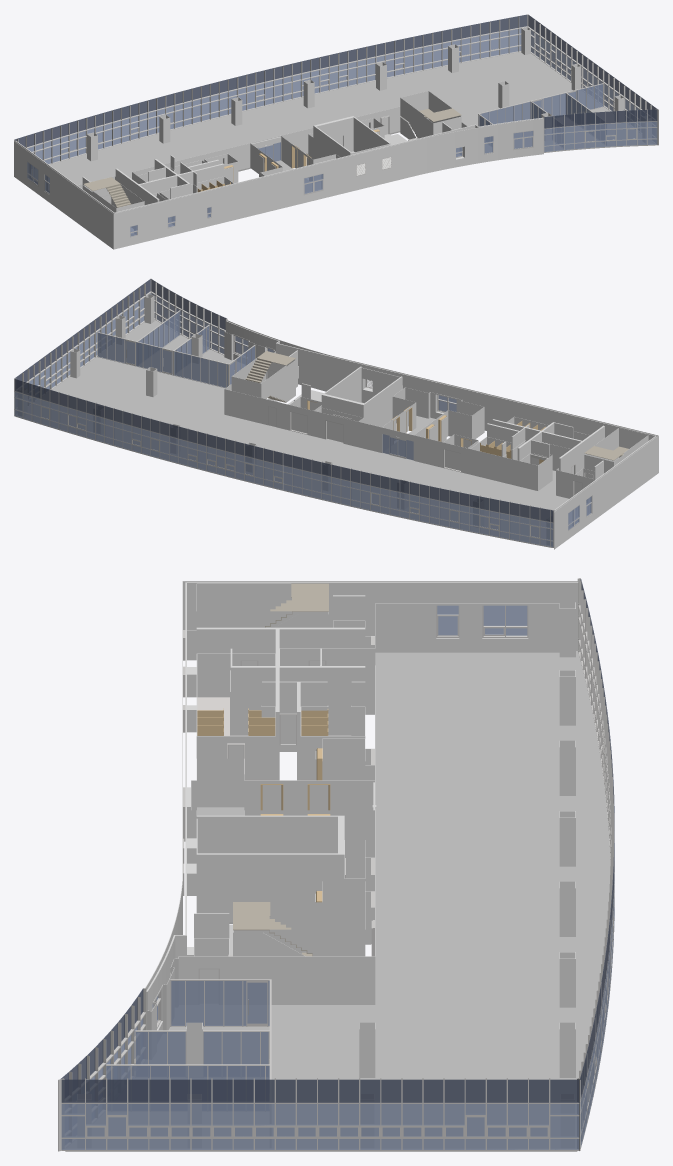
The picture shows the model from 3 angles, top to bottom: view 1: azimuth 30°, elevation 25°; view 2: azimuth 150°, elevation 25°; view 3: azimuth 270°, elevation 25°; orthographic projection. The views are drawn at different scales.
Visible parts, largest first — view 1: A8_12F_Window, A8_12F_Floor, A8_12F_outWall, A8_12F_Wall, A8_12F_Pillar, A8_12F_Glass, A8_12F_Stairs, A8_12F_Frame, A8_12F_ELEV, A8_12F_AutomaticDoor; view 2: A8_12F_Floor, A8_12F_Wall, A8_12F_Window, A8_12F_outWall, A8_12F_Glass, A8_12F_Pillar, A8_12F_Door, A8_12F_Frame, A8_12F_Stairs, A8_12F_AutomaticDoor, A8_12F_ELEV, A8_12F_GlassDoor; view 3: A8_12F_Floor, A8_12F_Wall, A8_12F_Window, A8_12F_Pillar, A8_12F_Glass, A8_12F_Stairs, A8_12F_Frame, A8_12F_Door, A8_12F_Toilet, A8_12F_outWall, A8_12F_ELEV, A8_12F_GlassDoor.
Boxes of the visible parts, x1,y1,x2,y2 form: A8_12F_Window: (14, 14, 658, 237); A8_12F_Floor: (31, 52, 654, 191); A8_12F_outWall: (14, 118, 543, 249); A8_12F_Wall: (15, 91, 543, 235); A8_12F_Pillar: (87, 27, 651, 161); A8_12F_Glass: (478, 84, 602, 125); A8_12F_Stairs: (83, 108, 461, 207); A8_12F_Frame: (478, 83, 603, 126); A8_12F_ELEV: (224, 129, 379, 182); A8_12F_AutomaticDoor: (251, 136, 281, 163); A8_12F_Floor: (22, 320, 587, 547); A8_12F_Wall: (224, 321, 656, 527); A8_12F_Window: (14, 278, 591, 547); A8_12F_outWall: (227, 320, 658, 549); A8_12F_Glass: (98, 311, 254, 387); A8_12F_Pillar: (18, 294, 549, 544); A8_12F_Door: (267, 369, 593, 495); A8_12F_Frame: (97, 310, 255, 388); A8_12F_Stairs: (245, 351, 628, 460); A8_12F_AutomaticDoor: (381, 428, 413, 460); A8_12F_ELEV: (307, 400, 471, 448); A8_12F_GlassDoor: (126, 340, 563, 454); A8_12F_Floor: (65, 651, 610, 1151); A8_12F_Wall: (146, 582, 578, 1059); A8_12F_Window: (58, 578, 614, 1151); A8_12F_Pillar: (78, 602, 575, 1147); A8_12F_Glass: (106, 981, 269, 1079); A8_12F_Stairs: (233, 583, 328, 956); A8_12F_Frame: (106, 979, 271, 1147); A8_12F_Door: (198, 636, 374, 1004); A8_12F_Toilet: (197, 708, 328, 735); A8_12F_outWall: (145, 581, 577, 990); A8_12F_ELEV: (260, 748, 330, 902); A8_12F_GlassDoor: (247, 981, 269, 1063).
Bounding box in the file's own units: 61.96 × 4.3 × 29.02.
